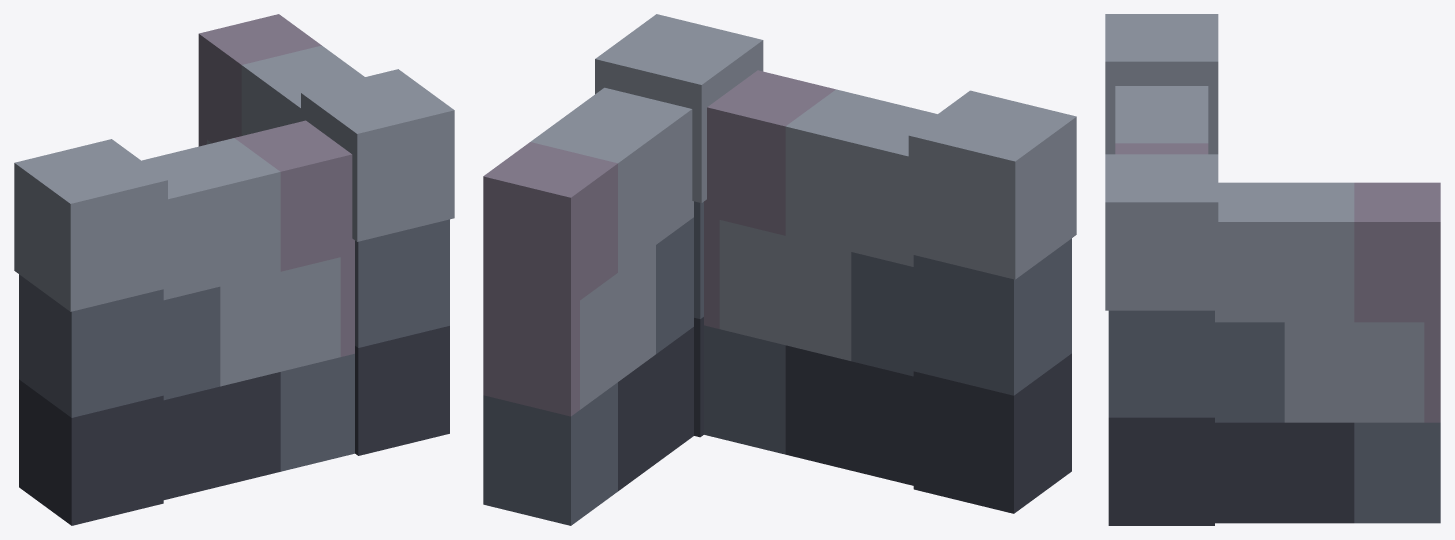
File: TW_STONE_CORNER_L90_A_LOD0.glb
3 views of the same model, side by side, from view 1: azimuth 30°, elevation 25°; view 2: azimuth 150°, elevation 25°; view 3: azimuth 270°, elevation 25° (orthographic). The views are drawn at different scales.
Parts seen in each view (by area): view 1: TW_STONE_CORNER_L90_A_LOD0; view 2: TW_STONE_CORNER_L90_A_LOD0; view 3: TW_STONE_CORNER_L90_A_LOD0.
Boxes of the visible parts, x1,y1,x2,y2 form: TW_STONE_CORNER_L90_A_LOD0: (14, 14, 454, 525); TW_STONE_CORNER_L90_A_LOD0: (483, 14, 1076, 525); TW_STONE_CORNER_L90_A_LOD0: (1105, 14, 1440, 525).
Bounding box in the file's own units: 1.34 × 1.08 × 1.01.
1 material, 1 textured.
